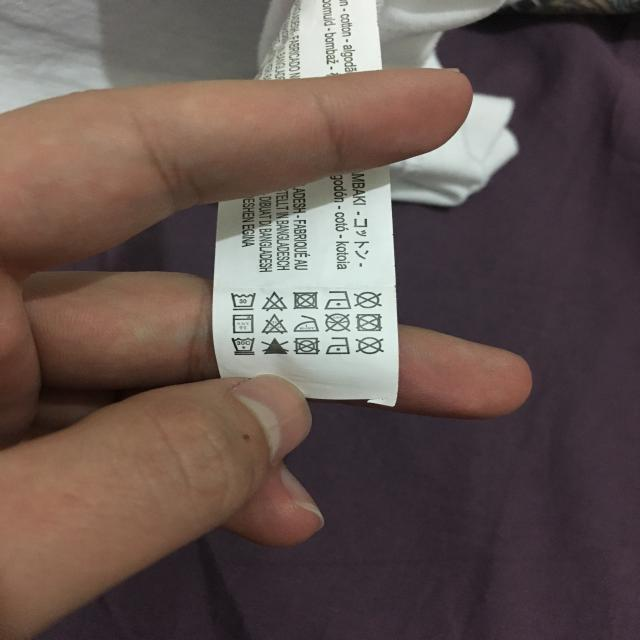30C: (228, 288, 259, 312), (233, 312, 257, 334), (230, 337, 257, 356)
DN_bleach: (261, 314, 288, 335), (262, 337, 289, 355), (263, 291, 287, 310)
DN_dry_clean: (323, 313, 352, 334), (355, 336, 384, 355), (355, 291, 383, 309)
DN_tumble_dry: (292, 289, 319, 311), (293, 335, 320, 356), (355, 313, 383, 332)
iron_low: (324, 290, 352, 311), (325, 336, 351, 357), (293, 314, 321, 332)
